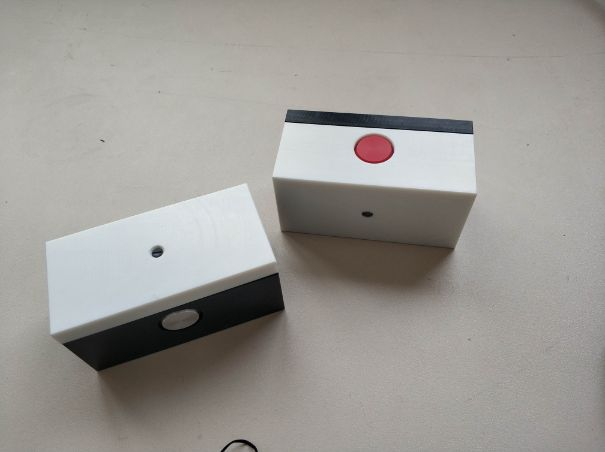black+white+red: (270, 105, 481, 253)
white+black+silver: (43, 181, 291, 375)
